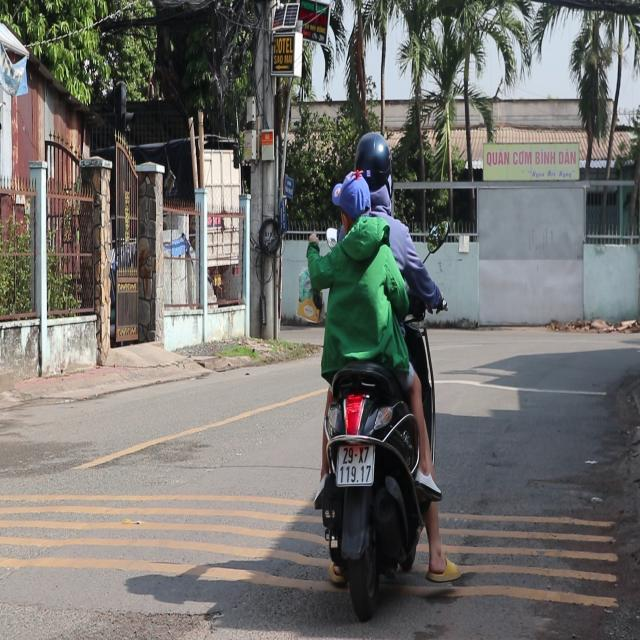helmet: (352, 128, 393, 202)
licenseplate: (303, 124, 454, 622)
motorcyclist: (332, 170, 371, 237)
nohelmet: (337, 446, 373, 484)
